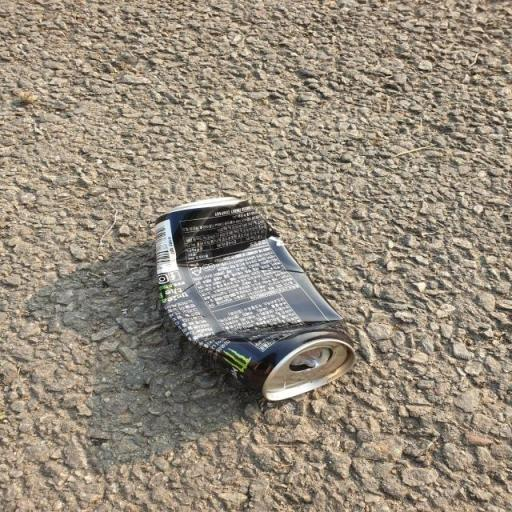metal: (82, 156, 438, 454)
